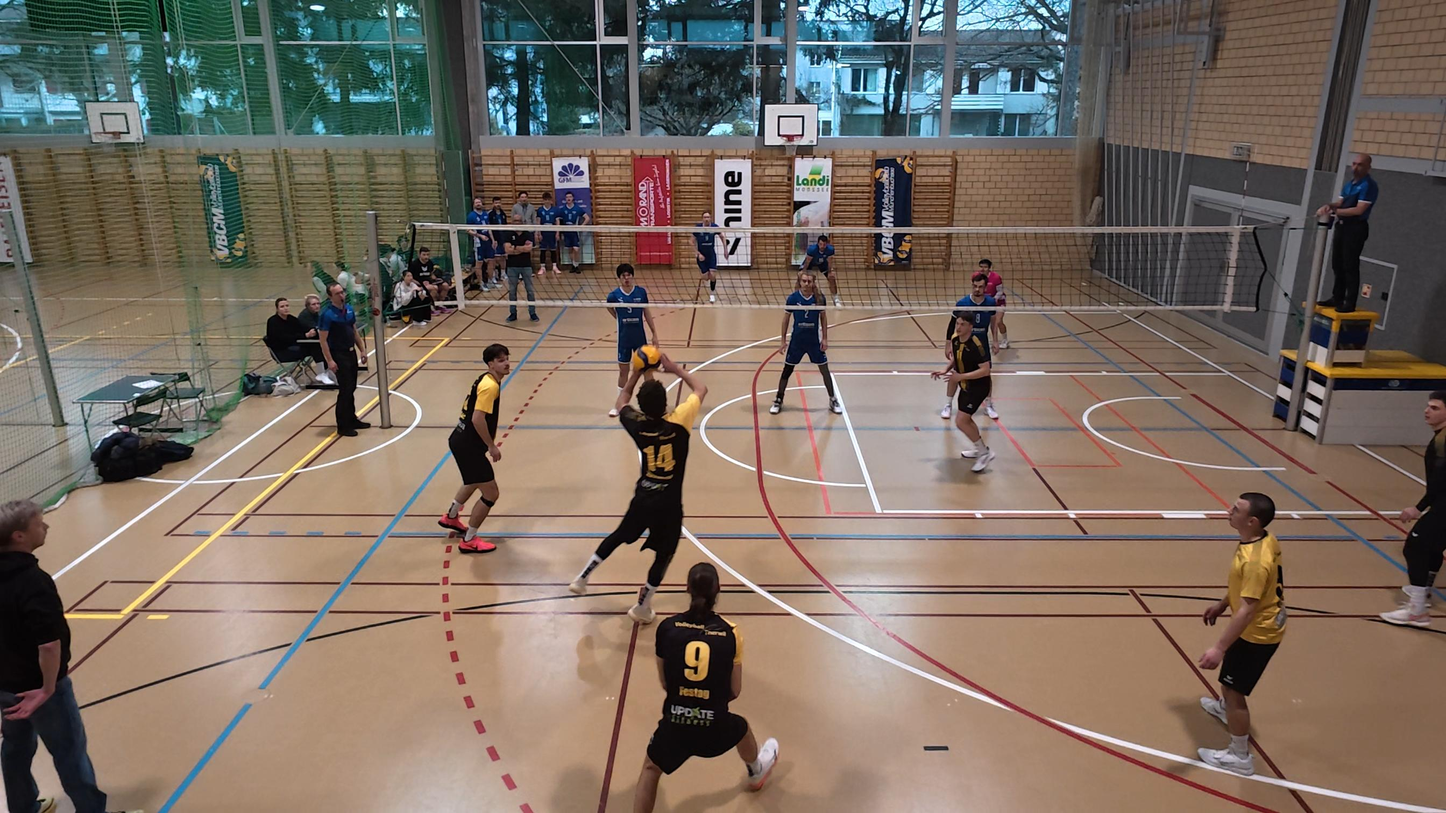ricezione: (567, 362, 708, 624)
